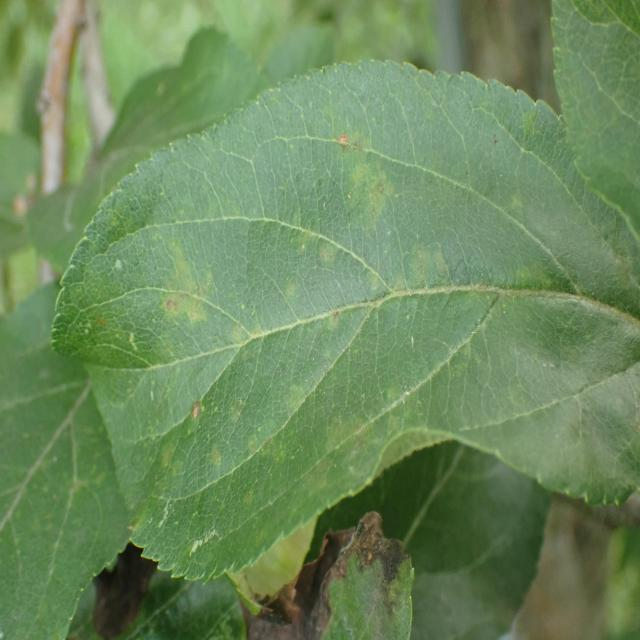scab: (77, 110, 640, 502), (213, 493, 461, 640)
